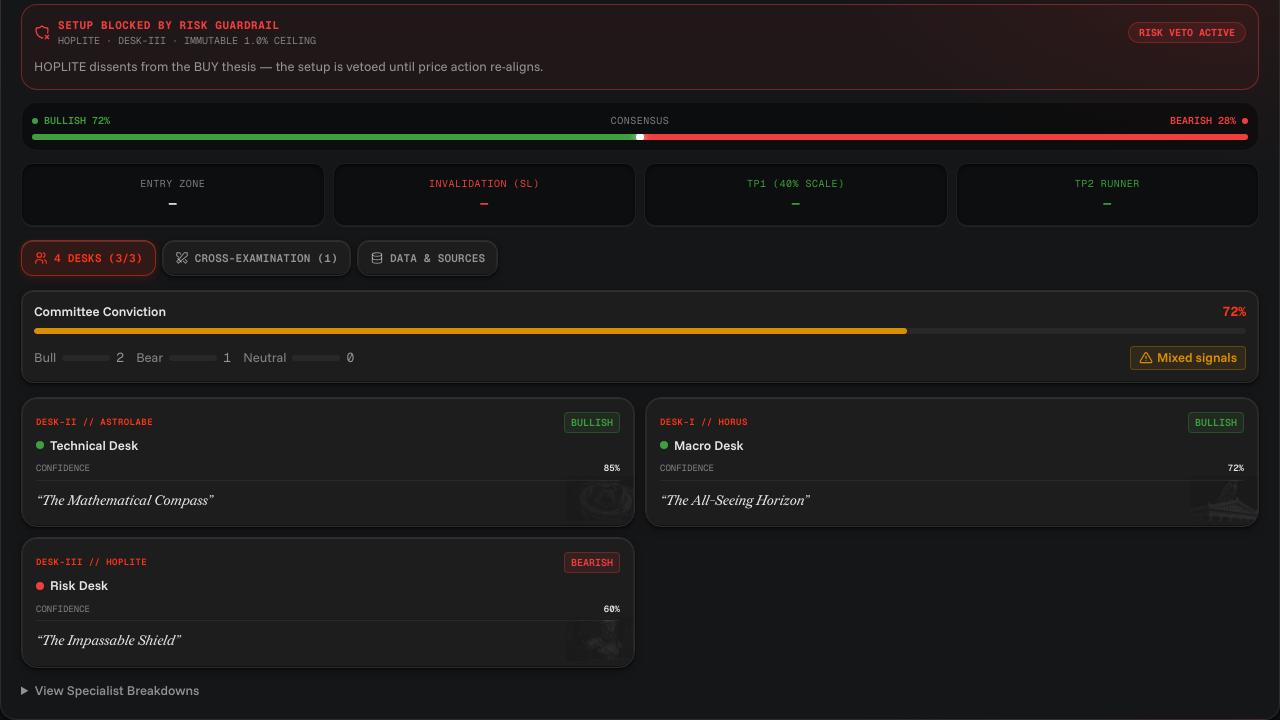
Test: AgentDeliberation › expandable agent opinions › shows opinion reasoning when details are expanded
(page scrolled)
// Click to expand
Click the heading "View Specialist Breakdowns" at [117, 690], box [35,682,199,698]
(page scrolled)
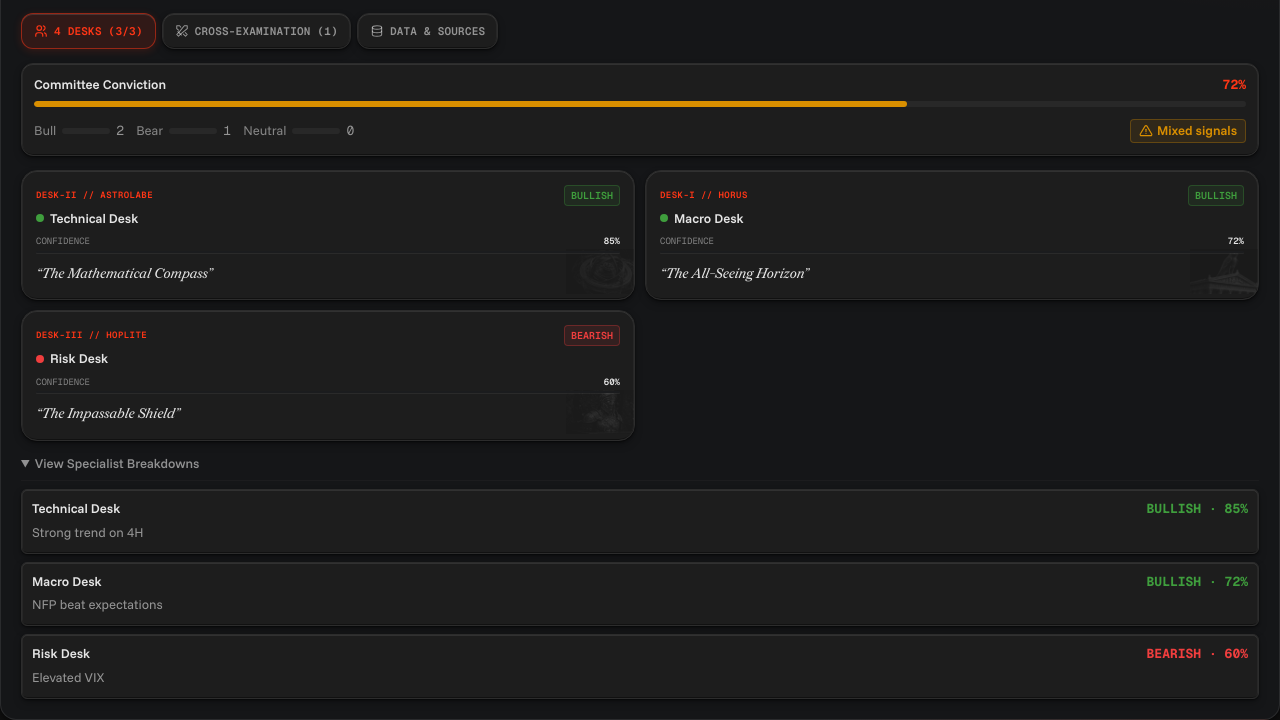
expect the text "Strong trend on 4H" is shown: met, box [32,524,144,540]
expect the text "NFP beat expectations" is shown: met, box [32,596,163,612]
expect the text "Elevated VIX" is shown: met, box [32,668,104,684]
